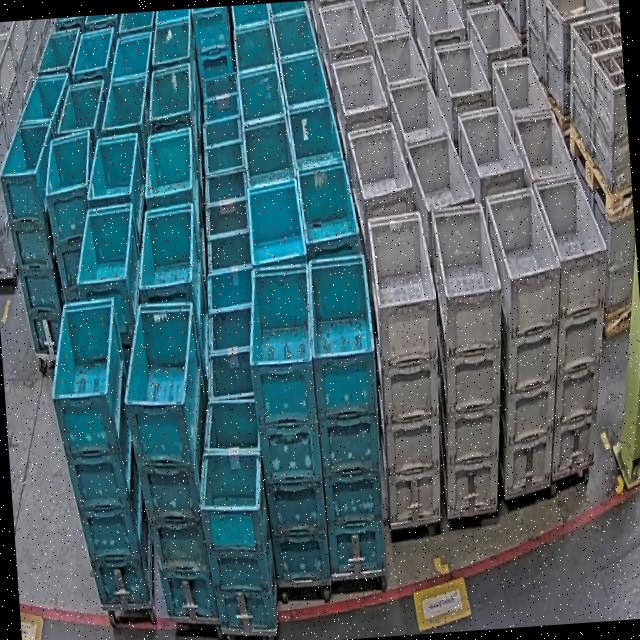4G: (481, 186, 577, 502), (424, 199, 518, 520), (530, 172, 623, 486), (367, 206, 452, 530)
B4: (44, 296, 154, 616), (116, 296, 220, 632), (242, 261, 334, 591), (306, 252, 392, 583), (0, 119, 69, 361), (40, 127, 104, 311)
B8: (190, 393, 277, 636)
